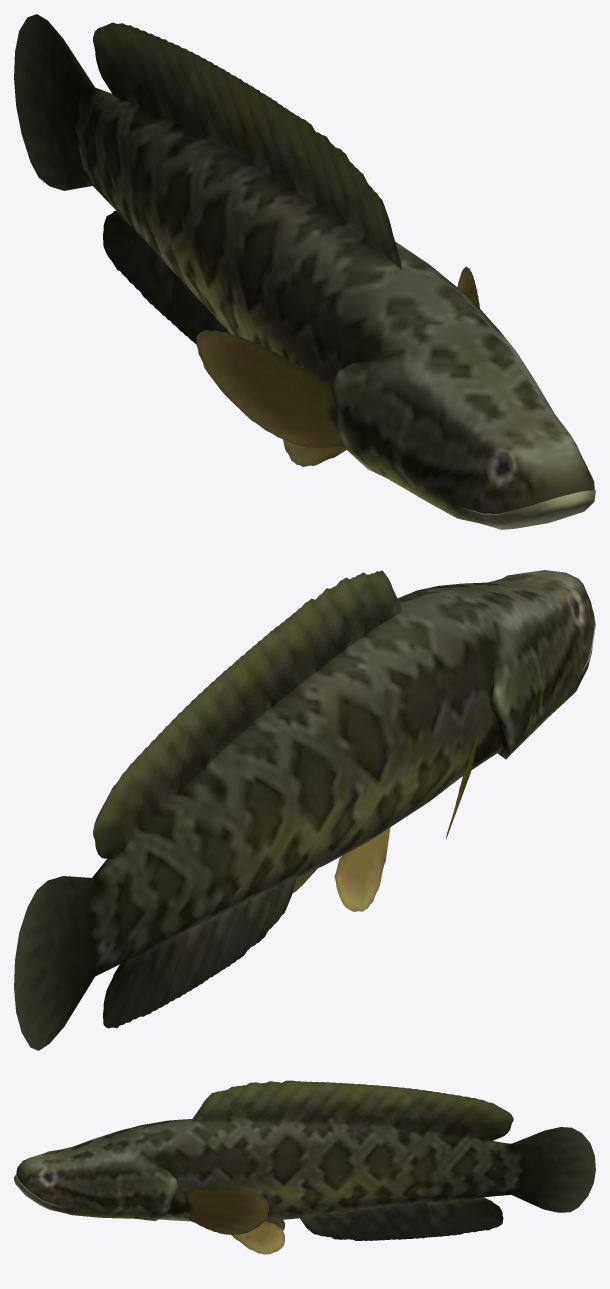
The model's file is giant-snakehead.glb.
3 views of the same model, one above another, from view 1: azimuth 30°, elevation 25°; view 2: azimuth 150°, elevation 25°; view 3: azimuth 270°, elevation 25° (orthographic). The views are drawn at different scales.
Bounding box in the file's own units: 2.98 × 3.51 × 10.09.
1 material, 1 textured.
